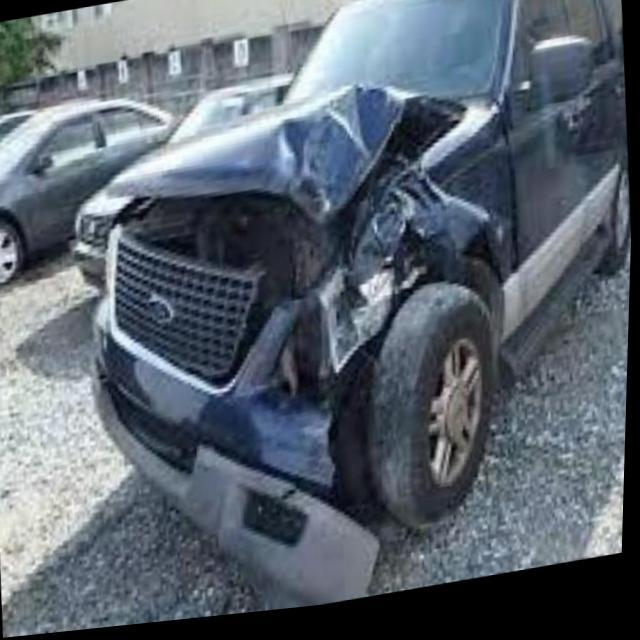crash: (108, 85, 494, 617)
